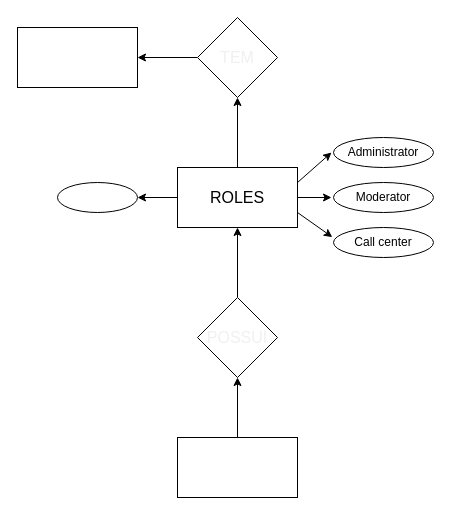
This 451x515 diagram has some shape labels left out. The shapes that lost their labels are listed below. From the top down, each one's centre as x and y in pixels, then its label:
(77,57): PERMISSIONS
(97,197): consumer
(237,467): USER
